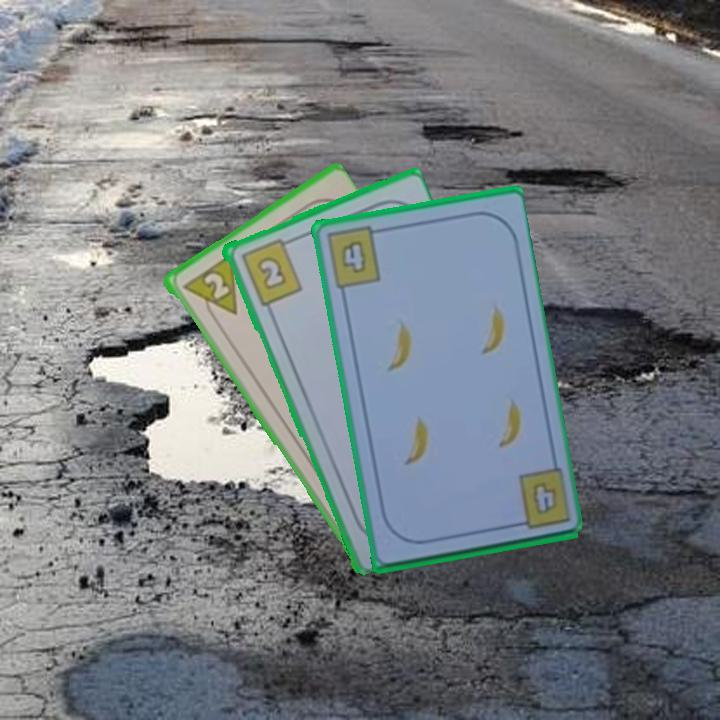2b: (236, 234, 305, 308)
2p: (178, 251, 240, 327)
4b: (322, 223, 386, 291), (528, 477, 560, 518)
